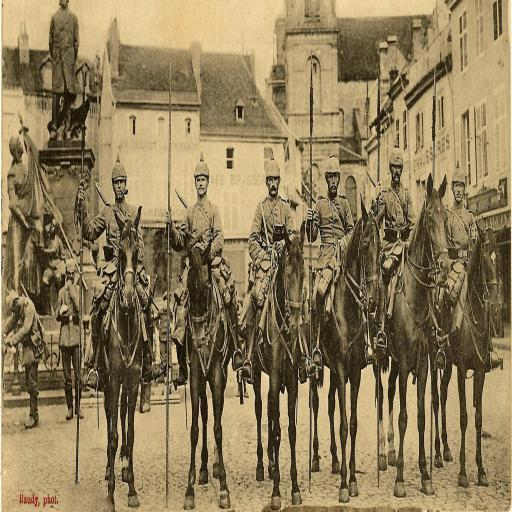horse: (370, 180, 450, 500), (308, 205, 386, 503), (426, 223, 508, 489), (248, 218, 308, 510), (92, 211, 150, 512), (182, 228, 234, 510)
